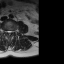CCS_normal: (8, 29, 10, 37)
LFS_stenosis: (12, 29, 14, 34)
LLS_stenosis: (10, 29, 12, 34)
RFS_stenosis: (4, 29, 6, 35)
RLS_stenosis: (6, 29, 8, 34)
